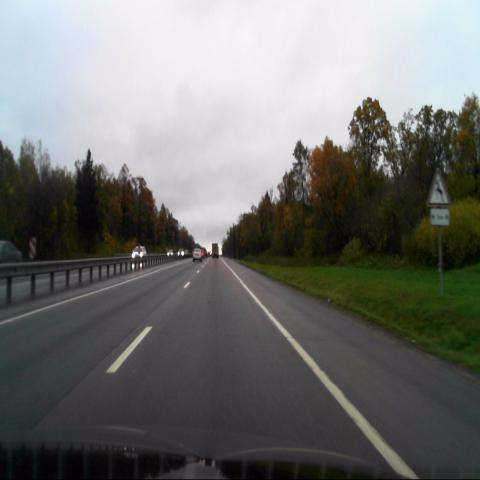1_27: (426, 167, 452, 209)
